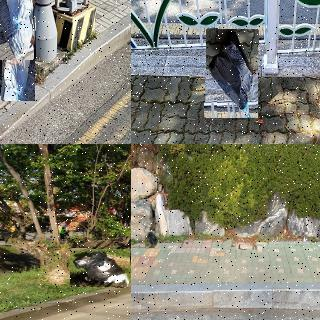Garbage: (205, 29, 259, 118), (1, 17, 36, 101), (70, 249, 131, 287), (0, 0, 33, 60), (145, 231, 159, 248)
